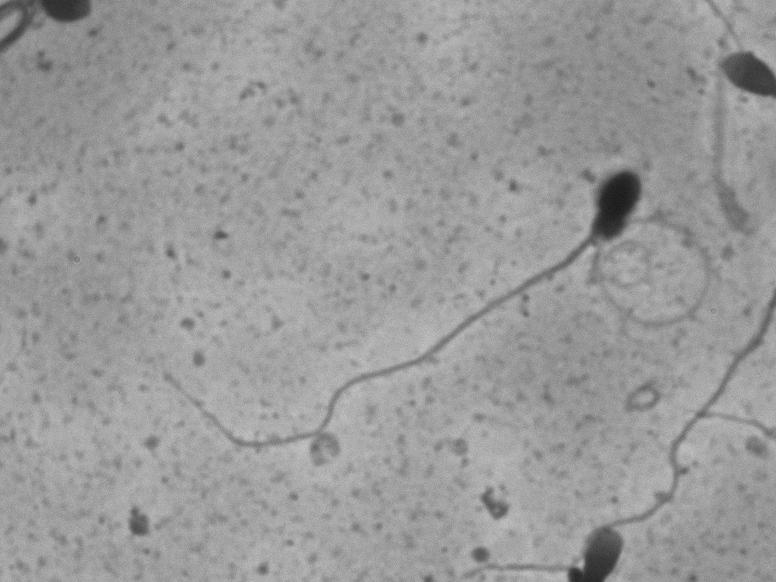Abnormal: (152, 137, 659, 488)
